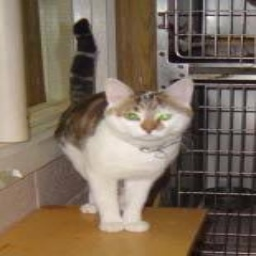cat: (57, 18, 192, 240)
